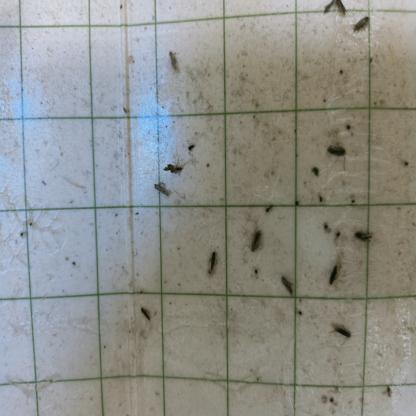prays_oleae: (329, 312, 354, 346), (328, 136, 352, 164), (248, 224, 264, 260), (351, 221, 372, 244), (353, 14, 373, 38), (326, 263, 344, 288), (206, 251, 222, 278), (163, 47, 180, 70), (280, 270, 296, 294), (138, 303, 154, 325), (382, 383, 392, 398)
